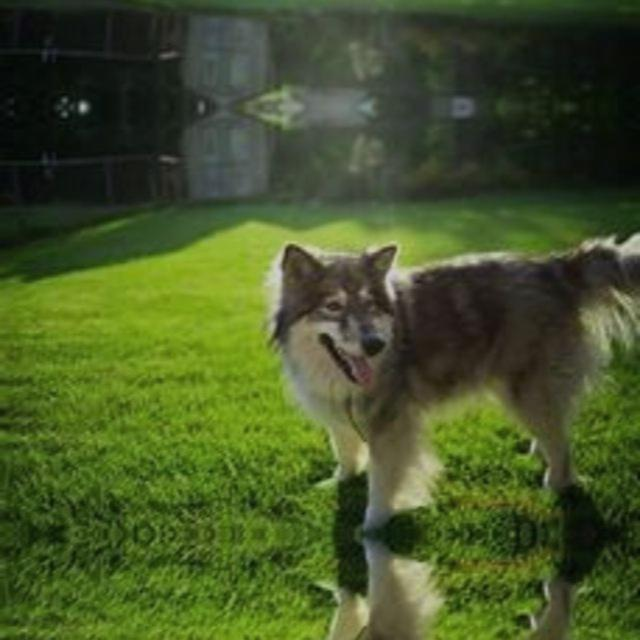dog: (258, 201, 632, 524), (258, 544, 632, 640), (258, 0, 632, 11)
